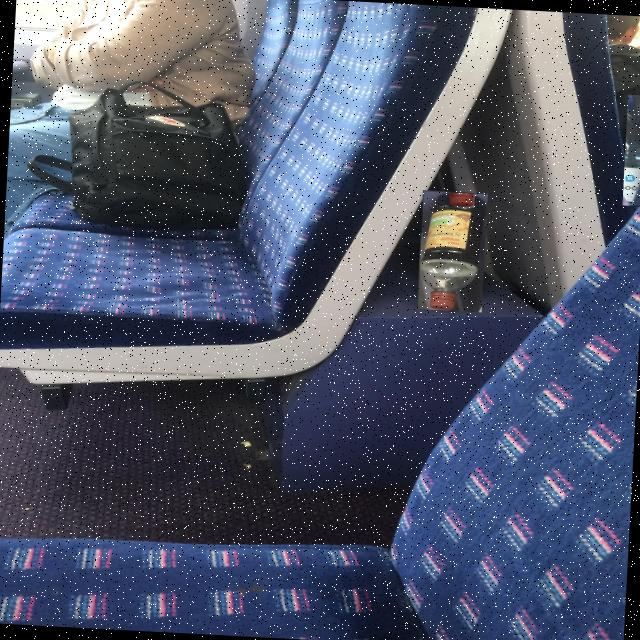Clear plastic bottle: (623, 95, 640, 205)
Other plastic container: (420, 193, 487, 311)
Plastic bottle cap: (451, 194, 474, 207)
